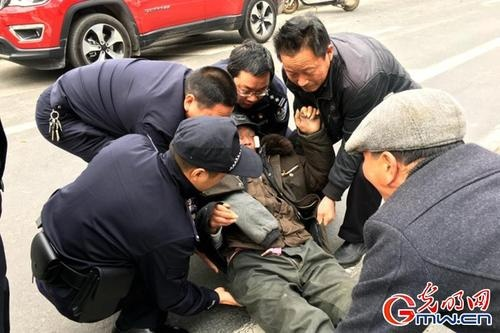falling: (199, 107, 358, 333)
